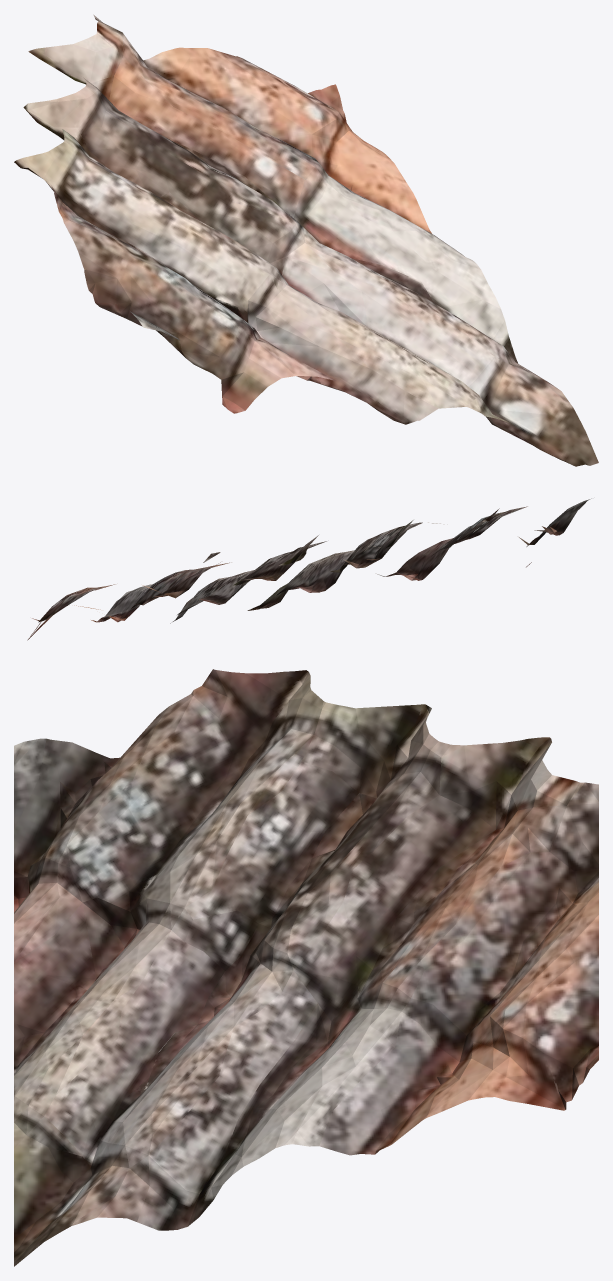
The picture shows the model from 3 angles, top to bottom: view 1: azimuth 30°, elevation 25°; view 2: azimuth 150°, elevation 25°; view 3: azimuth 270°, elevation 25°; orthographic projection. The views are drawn at different scales.
Size of the model in its own units: 0.8374 by 0.5553 by 0.8374.
Materials: 3 (3 with a texture image).
